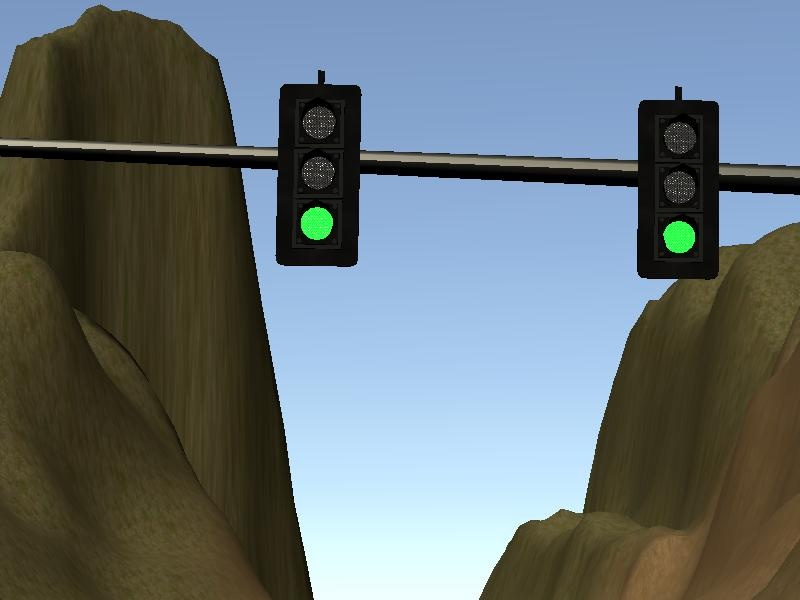traffic_light_green: (1, 65, 797, 280)
